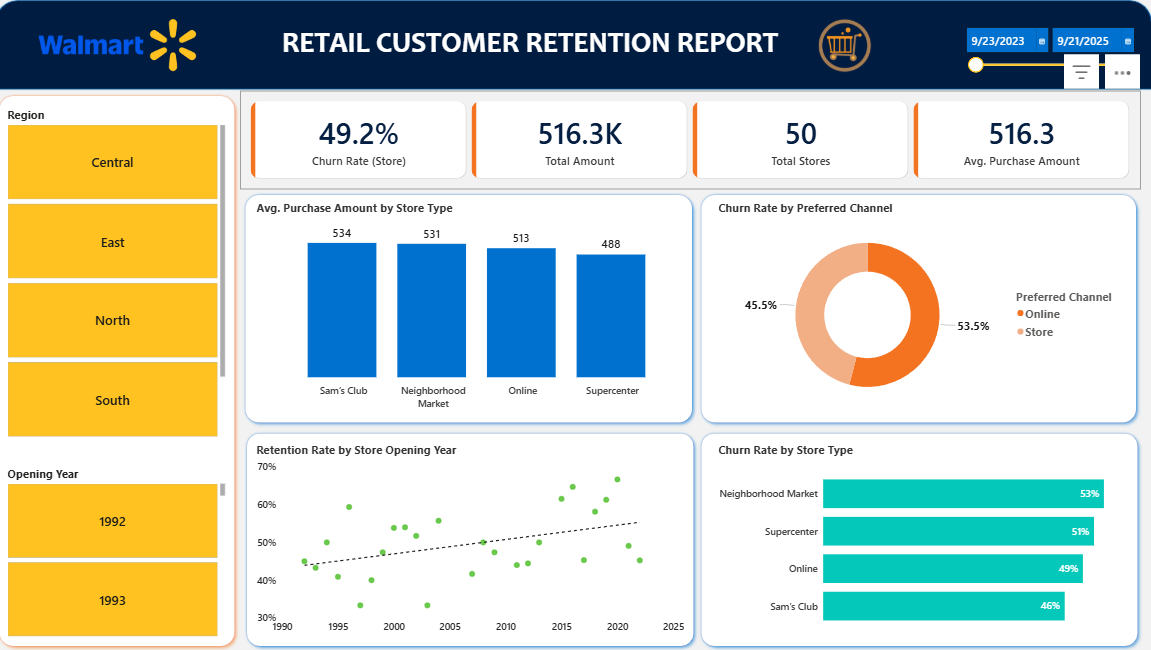

Layout of this report page (visuals, bound fields, positions):
{"tool":"powerbi","page":{"name":"Store / Channel Insights","canvas":[1920,1080],"ordinal":7},"visuals":[{"type":"shape","box":[410,710.6,757.8,370.2],"z":0},{"type":"shape","box":[1162.8,710.6,740.4,370.2],"z":1000},{"type":"shape","box":[1162.8,315.6,738,395.1],"z":2000},{"type":"shape","box":[407.5,315.6,757.8,395.1],"z":3000},{"type":"shape","box":[0,151.6,407.5,929.3],"z":4000},{"type":"shape","box":[0,0,1920,151.9],"z":5000},{"type":"image","box":[0,0,407.5,151.6],"z":6000},{"type":"textbox","box":[470.9,36.5,835.4,82],"z":7000},{"type":"slicer","fields":{"Values":["Customer_Transactions.Transaction_Date"]},"box":[1597.7,37.3,303.1,87],"z":8000},{"type":"image","box":[1306.3,15.2,197.5,118.5],"z":9000},{"type":"cardVisual","fields":{"Data":["Key_Measures.Churn Rate (Store)","Key_Measures.Total Amount","Key_Measures.Total Stores","Key_Measures.Avg. Purchase Amount"]},"box":[407.5,151.6,1493.3,164],"z":10000},{"type":"advancedSlicerVisual","fields":{"Values":["Store_Locations.Region"]},"box":[18.2,179.2,370.6,552.9],"z":11000},{"type":"advancedSlicerVisual","fields":{"Values":["Store_Locations.Opening_Year"]},"box":[18.2,771.6,370.6,288.6],"z":12000},{"type":"donutChart","fields":{"Category":["Customer_Demographics.Preferred_Channel"],"Y":["Key_Measures.Churn Rate"]},"box":[1195.2,333,685.8,355.3],"z":13000},{"type":"columnChart","fields":{"Category":["Store_Locations.Store_Type"],"Y":["Key_Measures.Avg. Purchase Amount"]},"box":[429.9,333,718.1,355.3],"z":14000},{"type":"barChart","fields":{"Category":["Store_Locations.Store_Type"],"Y":["Key_Measures.Churn Rate (Store)"]},"box":[1195.2,733,685.8,328],"z":15000},{"type":"scatterChart","fields":{"X":["Store_Locations.Opening_Year"],"Y":["Key_Measures.Retention Rate (Store)"]},"box":[429.9,733,718.1,328],"z":16000}]}

Visuals, with their boxes in screenshot pixels (x1, y1, x2, y2), scaled from the page's 1920x1080 canvas onto the 1151x650 screenshot:
shape: 246,428,700,649
shape: 697,428,1141,649
shape: 697,190,1139,428
shape: 244,190,699,428
shape: 0,91,244,649
shape: 0,0,1150,91
image: 0,0,244,91
textbox: 282,22,783,71
slicer - Customer_Transactions.Transaction_Date: 958,22,1139,75
image: 783,9,901,80
cardVisual - Key_Measures.Churn Rate (Store) x Key_Measures.Total Amount: 244,91,1139,190
advancedSlicerVisual - Store_Locations.Region: 11,108,233,441
advancedSlicerVisual - Store_Locations.Opening_Year: 11,464,233,638
donutChart - Customer_Demographics.Preferred_Channel x Key_Measures.Churn Rate: 716,200,1128,414
columnChart - Store_Locations.Store_Type x Key_Measures.Avg. Purchase Amount: 258,200,688,414
barChart - Store_Locations.Store_Type x Key_Measures.Churn Rate (Store): 716,441,1128,639
scatterChart - Store_Locations.Opening_Year x Key_Measures.Retention Rate (Store): 258,441,688,639
